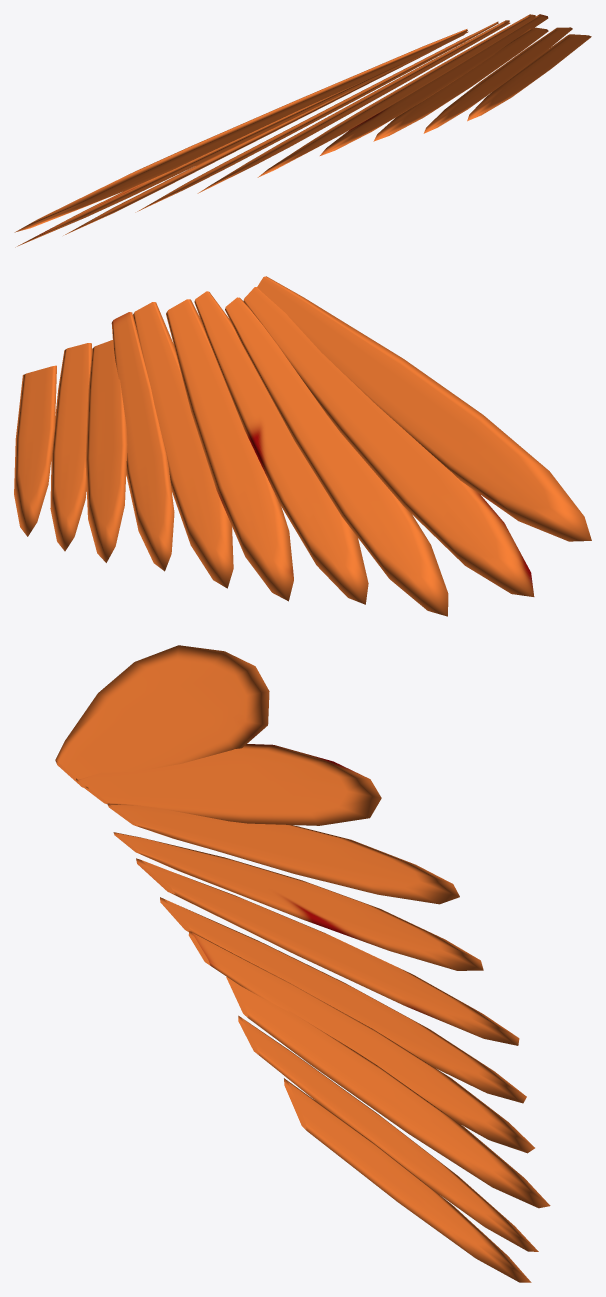
File: alaDer_pajaro_tel.obj
The picture shows the model from 3 angles, top to bottom: view 1: azimuth 30°, elevation 25°; view 2: azimuth 150°, elevation 25°; view 3: azimuth 270°, elevation 25°; orthographic projection. The views are drawn at different scales.
Parts seen in each view (by area): view 1: polySurface14; view 2: polySurface14; view 3: polySurface14.
Part boxes in pixels (x1,y1,x2,y2): polySurface14: [14, 14, 591, 247]; polySurface14: [14, 276, 591, 616]; polySurface14: [55, 645, 550, 1282].
Size of the model in its own units: 11.27 by 4 by 4.34.
Materials: 1 (1 with a texture image).
